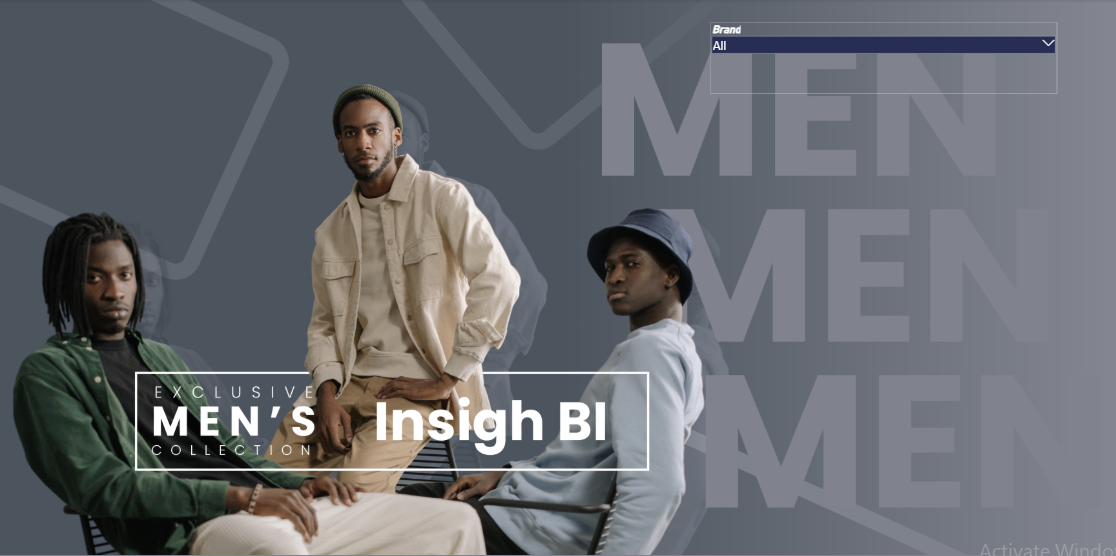

This screenshot's page, from the dashboard's own definition file:
{"tool":"powerbi","page":{"name":"Brands","canvas":[6912,3456],"ordinal":0},"visuals":[{"type":"slicer","fields":{"Values":["Men+Tshirt.Brand"]},"box":[4399.4,145.1,2149.8,444.5],"z":1}]}

Visuals, with their boxes in screenshot pixels (x1, y1, x2, y2), scaled from the page's 6912x3456 canvas onto the 1116x556 screenshot:
slicer - Men+Tshirt.Brand: crop(710, 23, 1057, 95)
